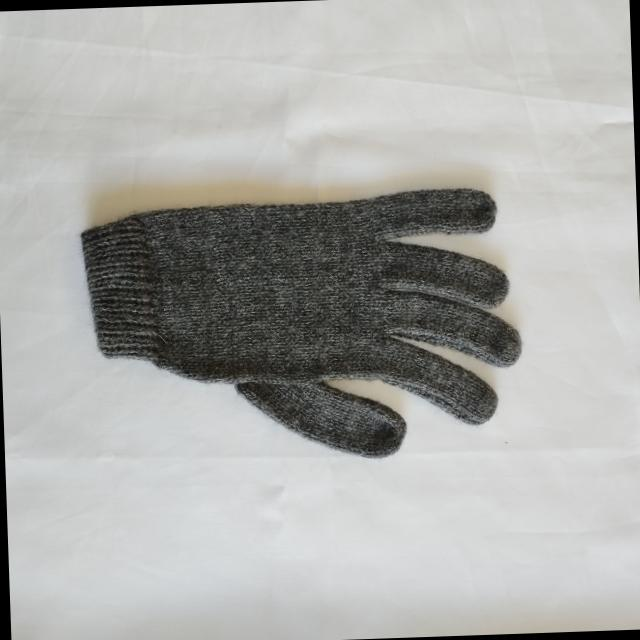Guante: (78, 183, 526, 469)
